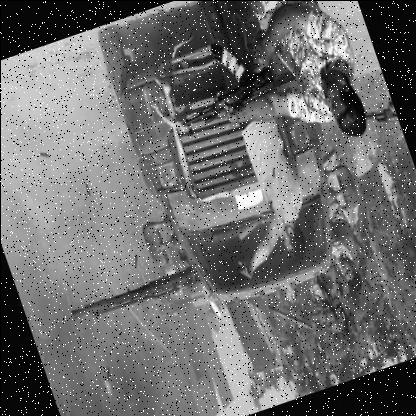rifle: (157, 26, 292, 139), (359, 99, 402, 144)
